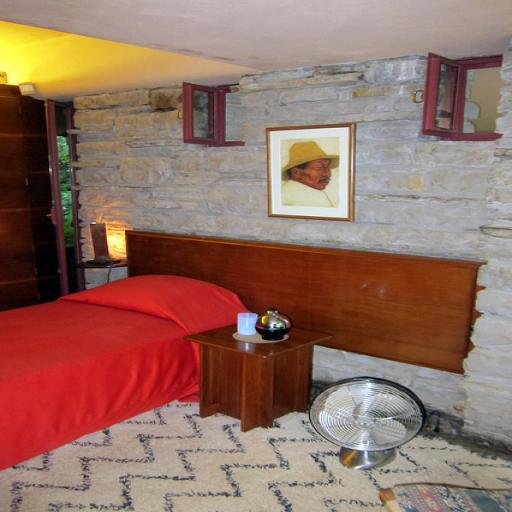bed: (0, 235, 351, 473)
